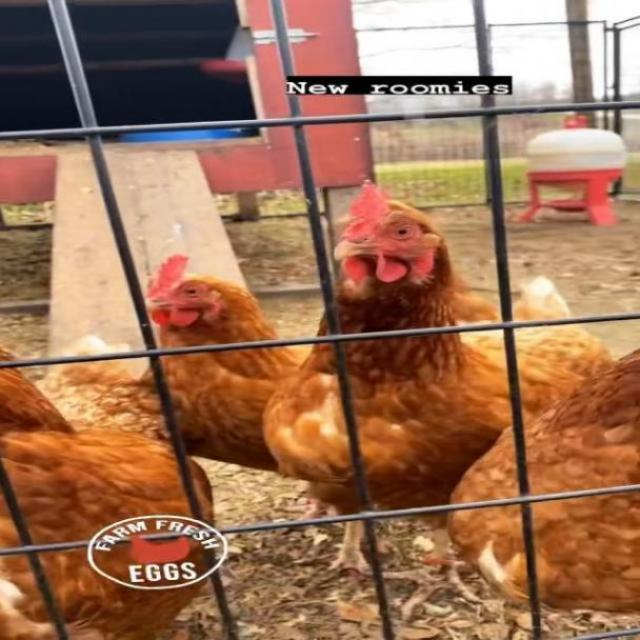Chicken: (259, 179, 610, 617), (141, 253, 504, 521), (0, 333, 217, 640), (448, 342, 640, 614)
